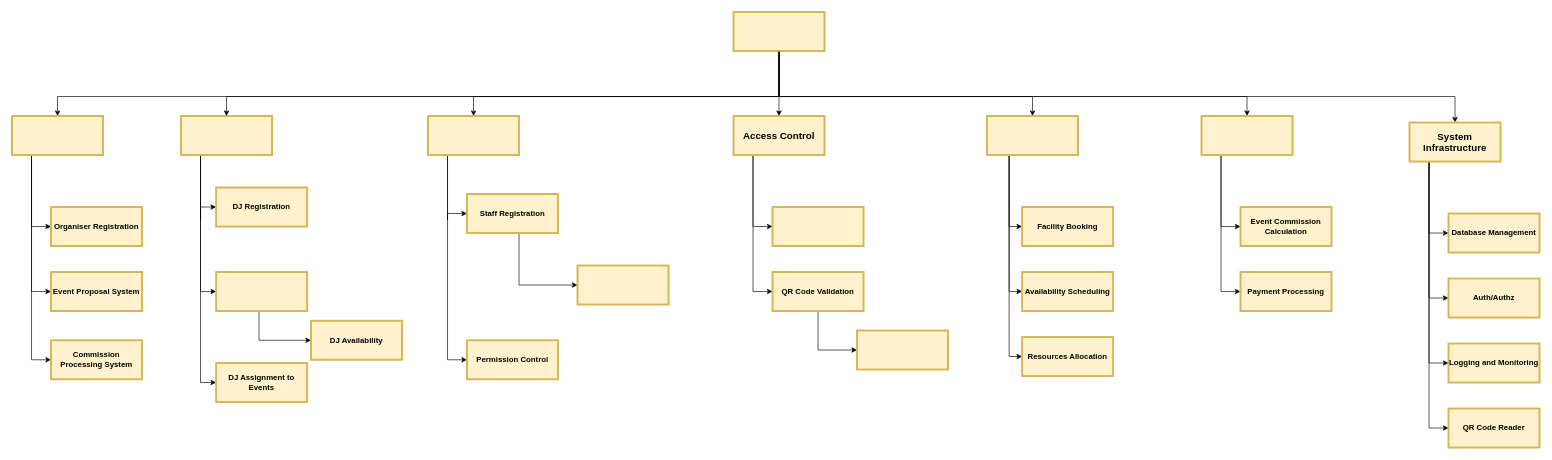
This 1552x460 diagram has some shape labels left out. Each missing label, with the centre of its shape:
"DJ Management" goes at (x=226, y=135).
"DJ Profile Management" goes at (x=261, y=291).
"Entrance Access Verification" goes at (x=902, y=349).
"Facility Management" goes at (x=1032, y=135).
"Financial Management" goes at (x=1246, y=135).
"Night Club Party" goes at (x=778, y=31).
"Organiser Management" goes at (x=57, y=135).
"Profile/Role Mapping" goes at (x=622, y=284).
"QR Code Generation" goes at (x=817, y=226).
"Staff Management" goes at (x=473, y=135).
